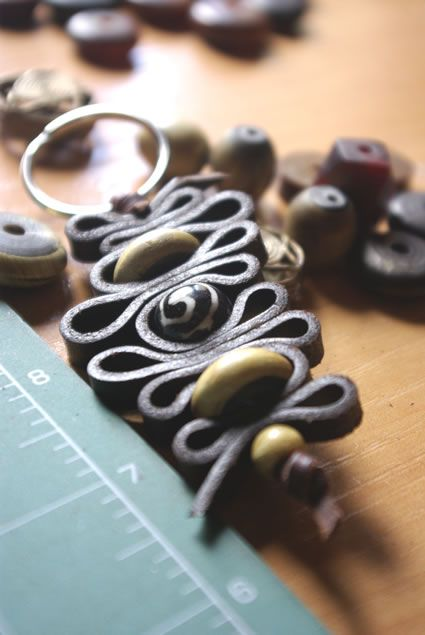cuero: (58, 172, 363, 545)
